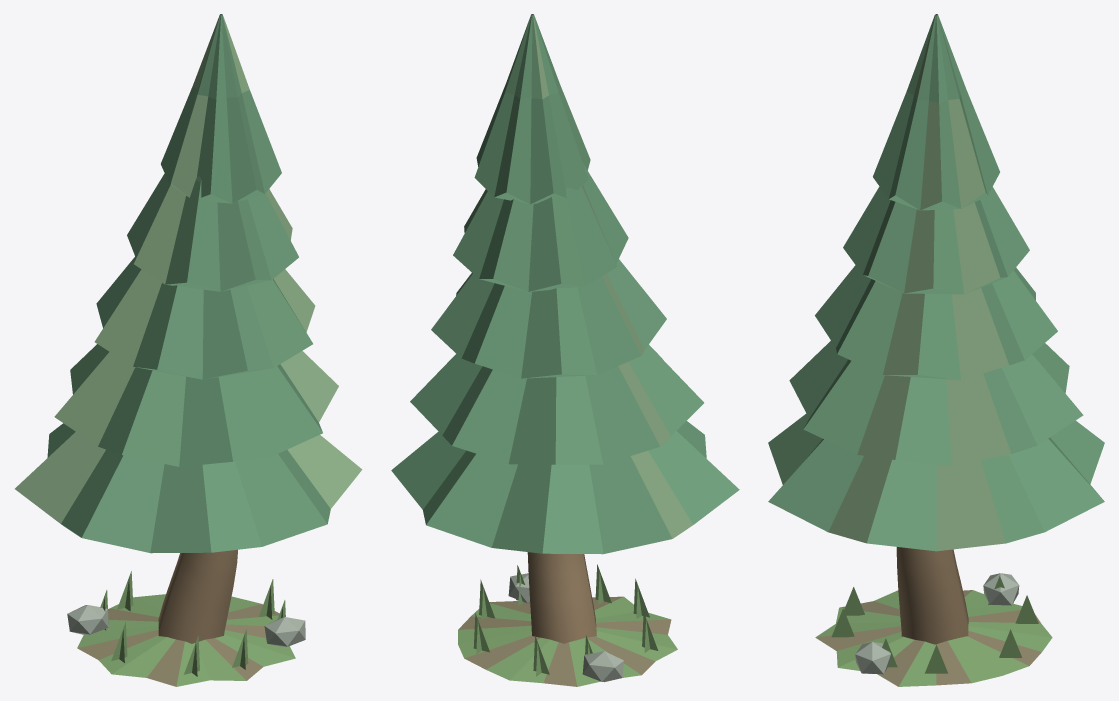
File: tiered_pine.glb
3 views of the same model, side by side, from view 1: azimuth 30°, elevation 25°; view 2: azimuth 150°, elevation 25°; view 3: azimuth 270°, elevation 25° (orthographic). The views are drawn at different scales.
Parts seen in each view (by area): view 1: VR scalloped pine tier; view 2: VR scalloped pine tier; view 3: VR scalloped pine tier.
Part boxes in pixels (box(x1,y1,x2,y2)): VR scalloped pine tier: box(15, 14, 362, 686); VR scalloped pine tier: box(391, 14, 739, 686); VR scalloped pine tier: box(768, 14, 1104, 686).
Bounding box in the file's own units: 3.42 × 7.26 × 3.42.
